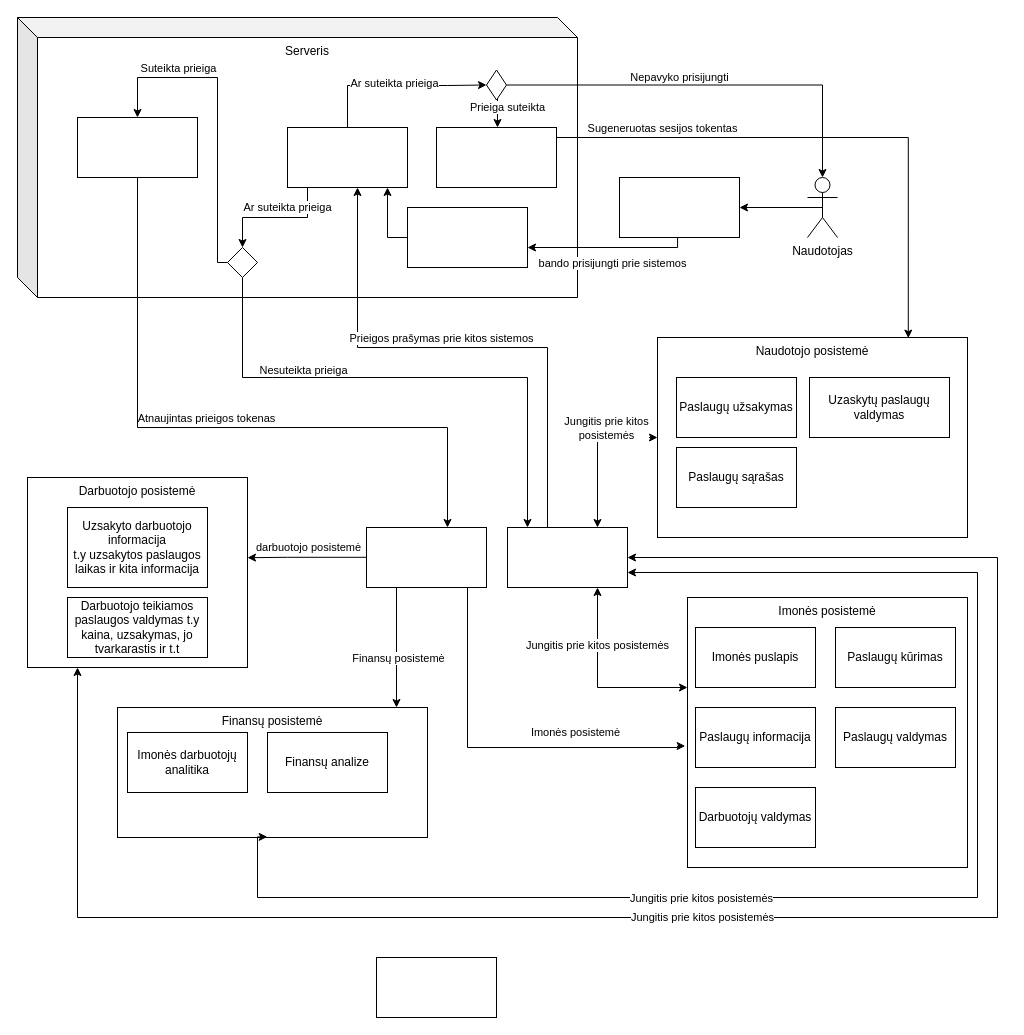
Some shapes in this 1024 by 1035 pixel diagram are drawn without their labels. Each missing label, with the centre of its shape:
"Atnaujinti JWT tokena" goes at (137,147).
"Jungtis prie sistemos" goes at (679,207).
"KOKS BUS ROLIU VALDYMAS? AR HERARHINIS AR TIESIOG SARASAS" goes at (436,987).
"Naudotojo autentifikavimas" goes at (467,237).
"Prieigos patikrinimas" goes at (567,557).
"Prieigos valdymas" goes at (347,157).
"Rezultatas" goes at (426,557).
"Sukurti JWT tokena" goes at (496,157).
